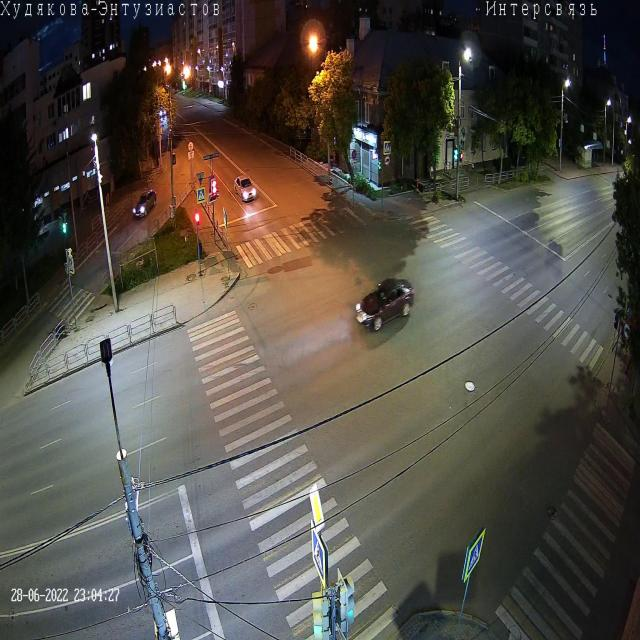car: (356, 276, 416, 332), (132, 189, 157, 219), (234, 174, 257, 203), (158, 105, 166, 118)
